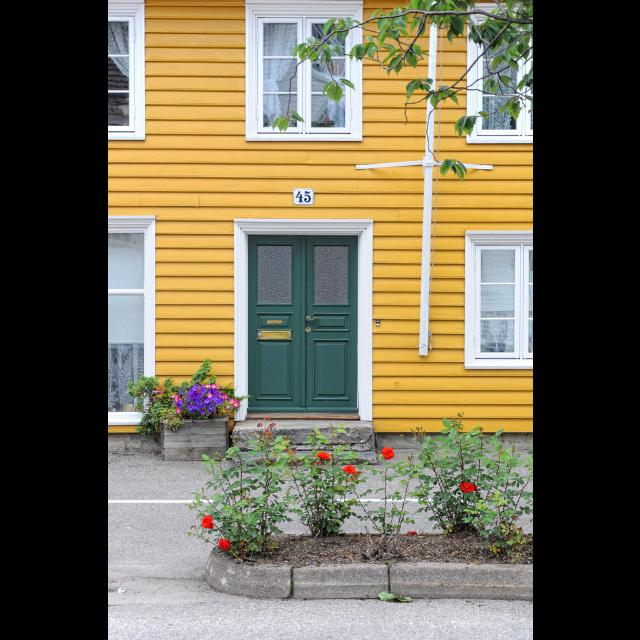Flower: (150, 382, 238, 422), (314, 449, 330, 465), (462, 482, 481, 492), (199, 519, 213, 531), (343, 464, 357, 476), (382, 448, 394, 460), (218, 541, 232, 551)
